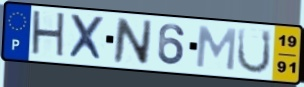6: (157, 23, 186, 67)
H: (29, 9, 67, 61)
M: (193, 25, 238, 73)
N: (112, 16, 155, 67)
U: (235, 26, 273, 76)
X: (67, 12, 106, 63)
